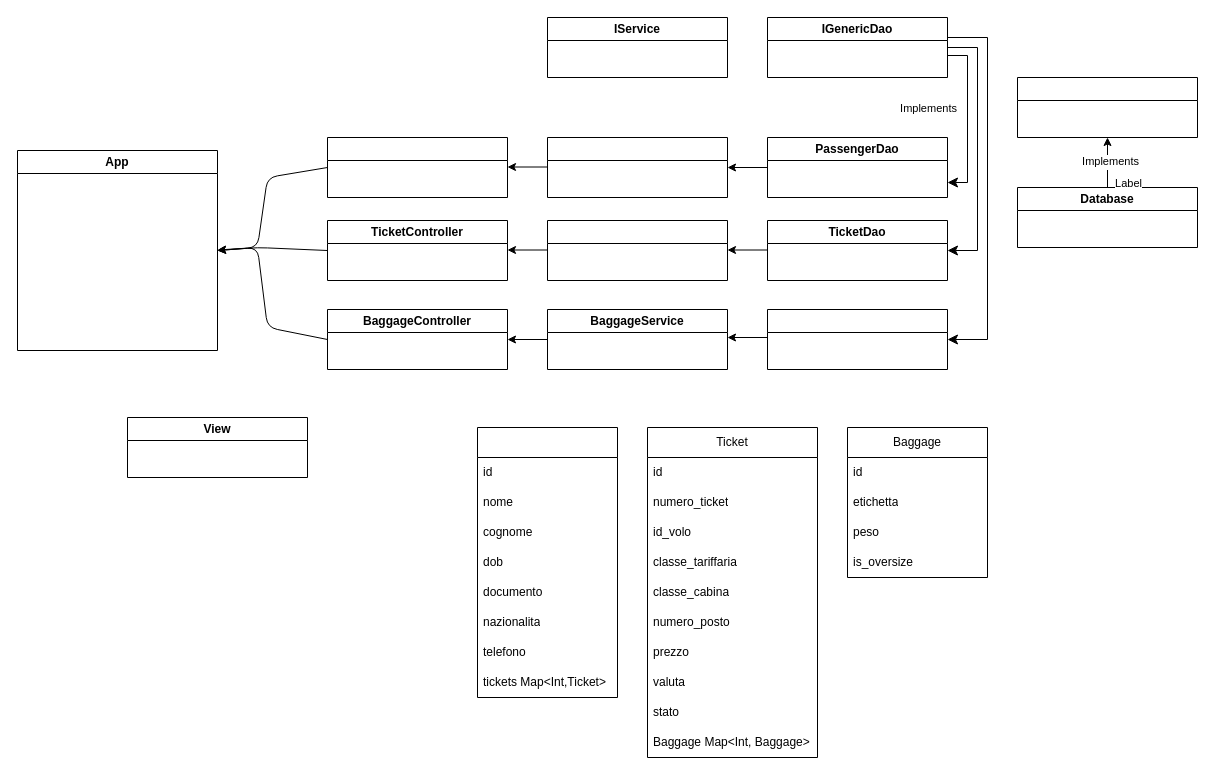
Some shapes in this 1215 by 775 pixel diagram are drawn without their labels. Here are the shapes that lost their labels. From the top down, the box of each, then its label:
(1016, 76, 1198, 138): IDatabase
(326, 136, 508, 198): PassengerController
(546, 136, 728, 198): PassengerService
(546, 220, 728, 280): TicketService
(766, 308, 948, 370): BaggageDao
(476, 426, 618, 698): Passenger
